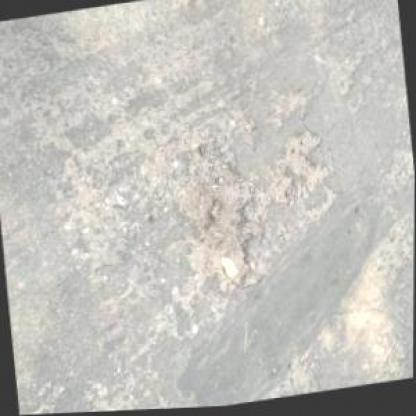pothole: (171, 148, 269, 305), (261, 127, 338, 228)
